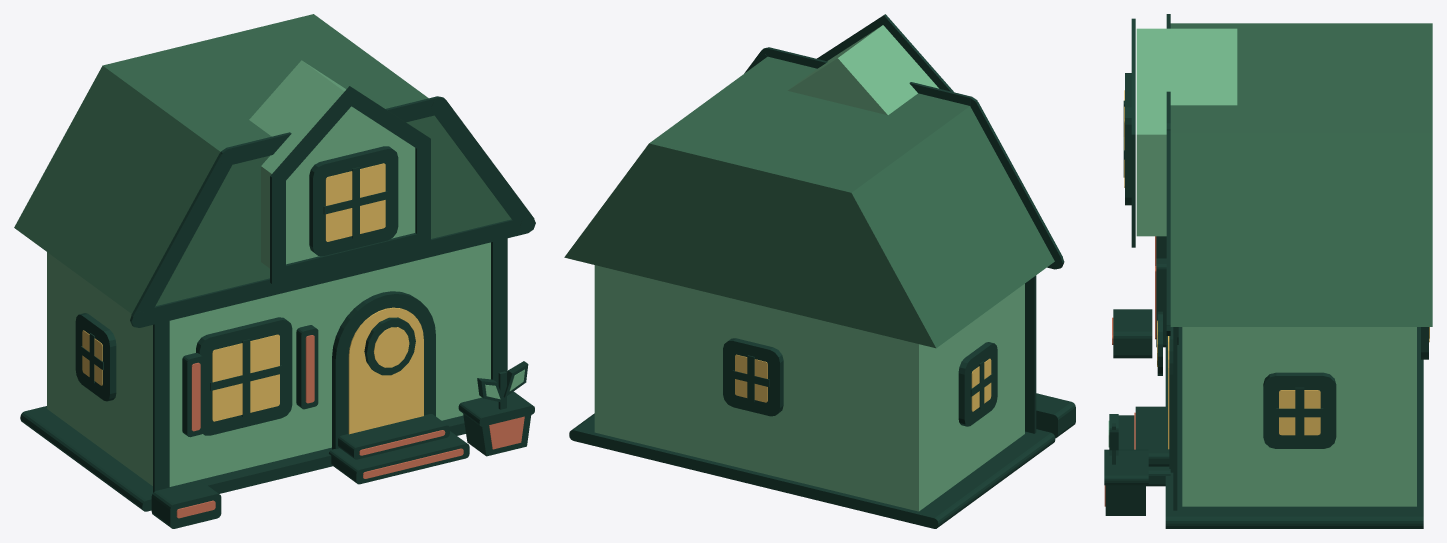
3 views of the same model, side by side, from view 1: azimuth 30°, elevation 25°; view 2: azimuth 150°, elevation 25°; view 3: azimuth 270°, elevation 25° (orthographic). The views are drawn at different scales.
Visible parts, largest first — view 1: Rent Free house; view 2: Rent Free house; view 3: Rent Free house.
Part boxes in pixels (left/top/right/bottom): Rent Free house: left=14, top=14, right=535, bottom=528; Rent Free house: left=564, top=14, right=1075, bottom=528; Rent Free house: left=1104, top=14, right=1432, bottom=528.
Size of the model in its own units: 1.08 by 0.9987 by 0.72.
